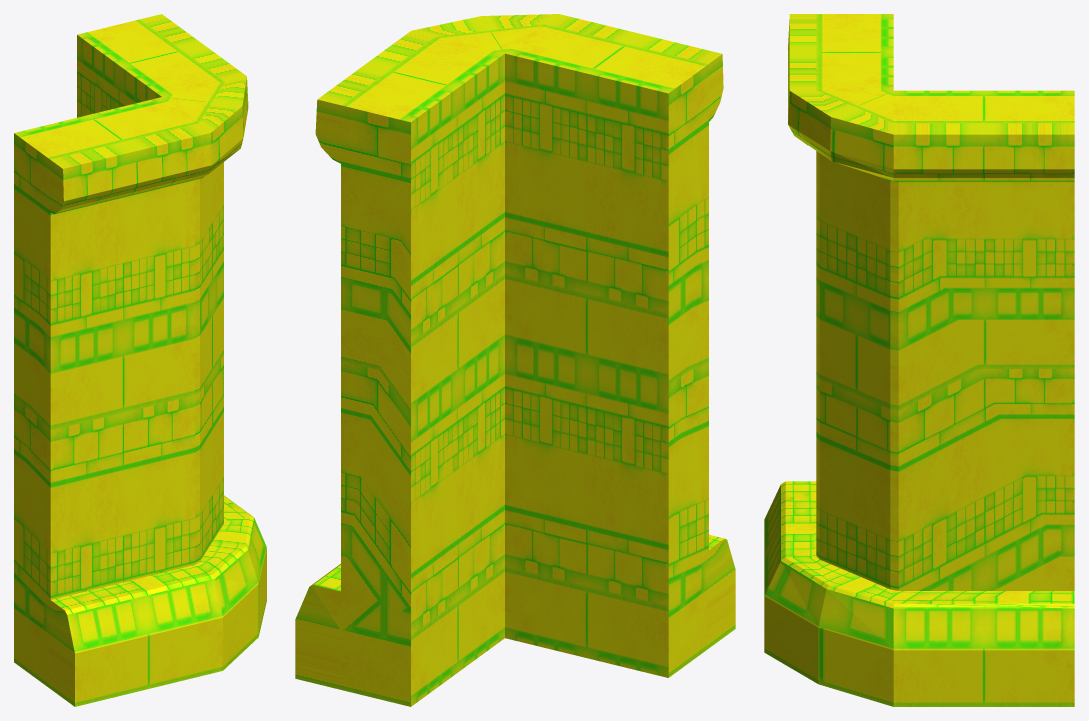
File: wall_full_outercorner.fbx
3 renders of one model, left to right at view 1: azimuth 30°, elevation 25°; view 2: azimuth 150°, elevation 25°; view 3: azimuth 270°, elevation 25°, orthographic. The views are drawn at different scales.
Visible parts, largest first — view 1: Wall_full_size_outercorner; view 2: Wall_full_size_outercorner; view 3: Wall_full_size_outercorner.
Boxes of the visible parts, <box> form: Wall_full_size_outercorner: <box>14,14,266,706</box>; Wall_full_size_outercorner: <box>295,14,735,706</box>; Wall_full_size_outercorner: <box>764,14,1074,706</box>.
Size of the model in its own units: 200 by 400 by 200.
